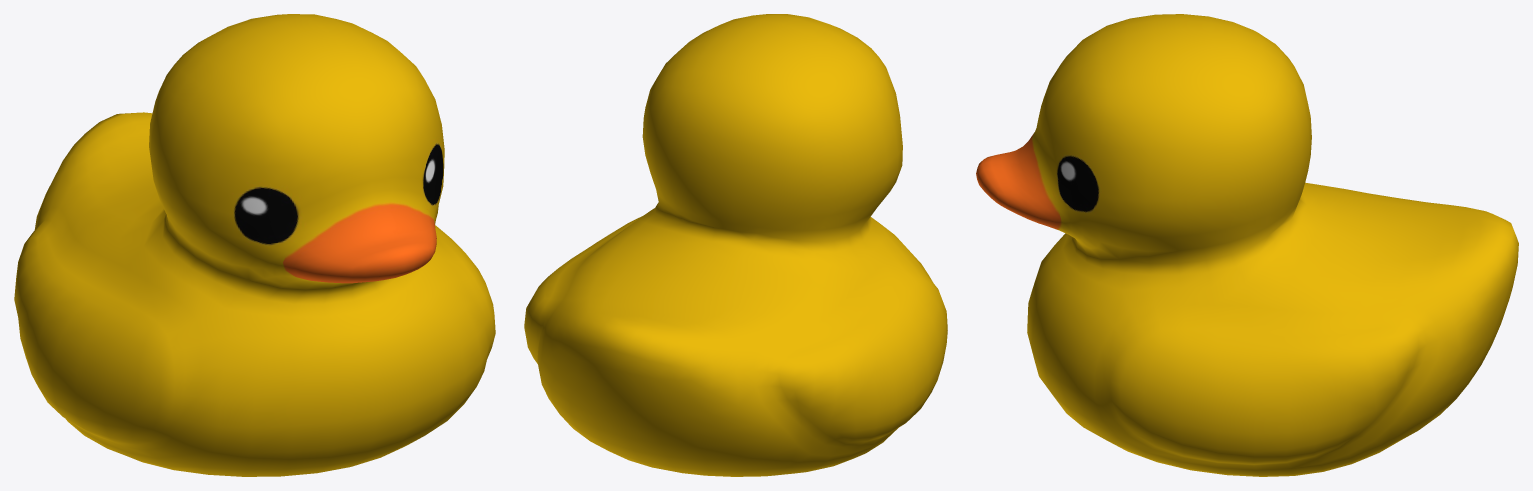
Rendered from DUCK.obj.
3 renders of one model, left to right at view 1: azimuth 30°, elevation 25°; view 2: azimuth 150°, elevation 25°; view 3: azimuth 270°, elevation 25°, orthographic. The views are drawn at different scales.
Visible parts, largest first — view 1: duck; view 2: duck; view 3: duck.
Part boxes in pixels (<box>): duck: <box>14,14,495,476</box>; duck: <box>524,14,947,476</box>; duck: <box>976,14,1518,476</box>.
Bounding box in the file's own units: 1.06 × 1.03 × 1.32.
2 materials, 1 textured.
